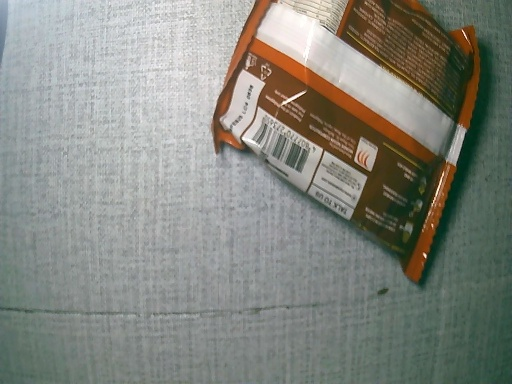plastic: (210, 1, 480, 289)
